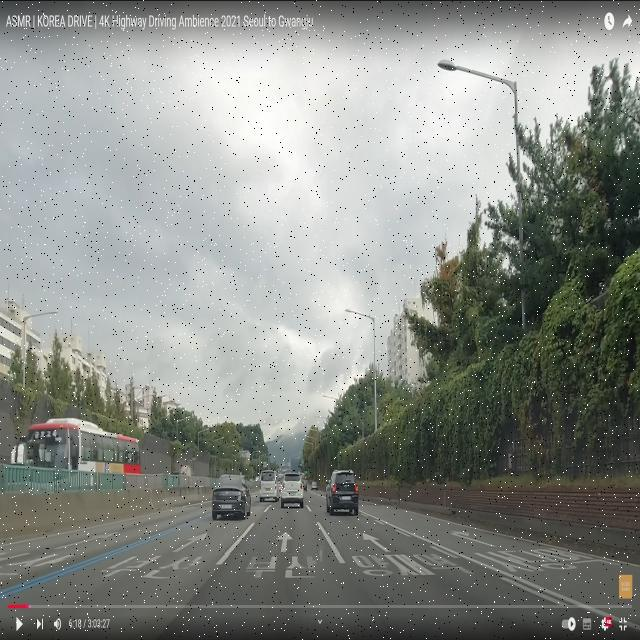forward: (219, 522, 346, 554)
